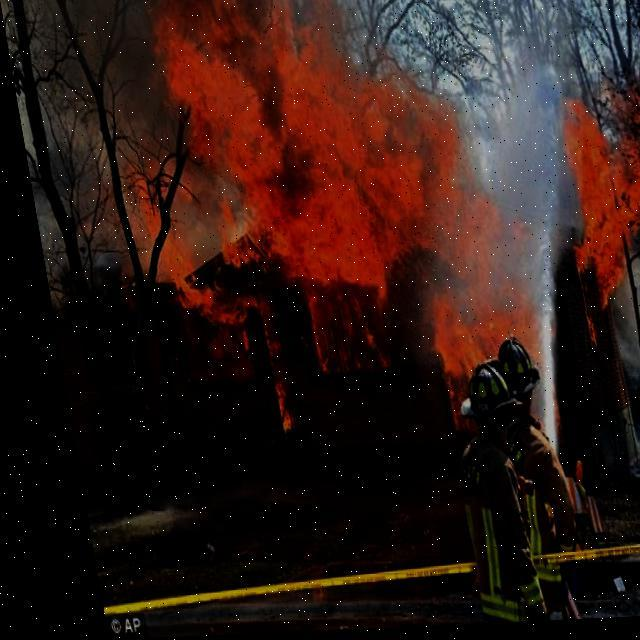Fire: (102, 4, 474, 379), (434, 91, 536, 374), (538, 83, 639, 357)
